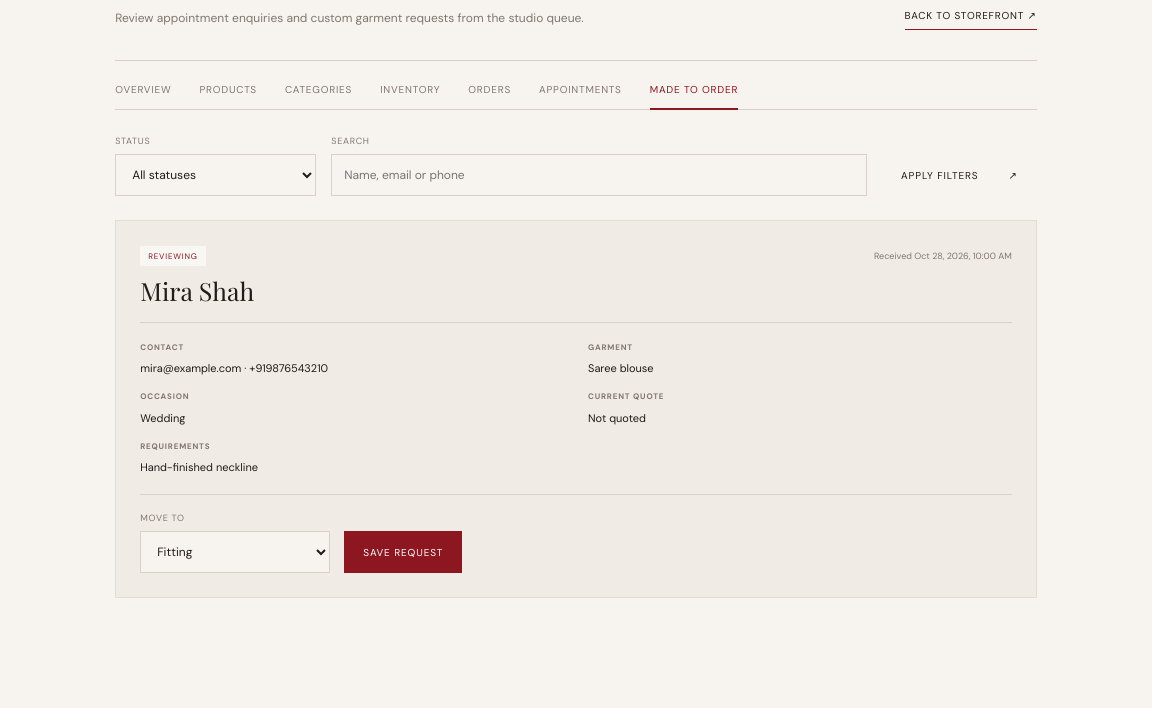
it: admin studio queues › issues a staff quotation in paise through the CSRF-protected API
(page scrolled)
Check: the heading "Mira Shah" is shown, box [140,274,254,307]
Select "Quoted" in the dropdown named "Next status for Mira Shah" at (235, 552), box [140,531,330,573]
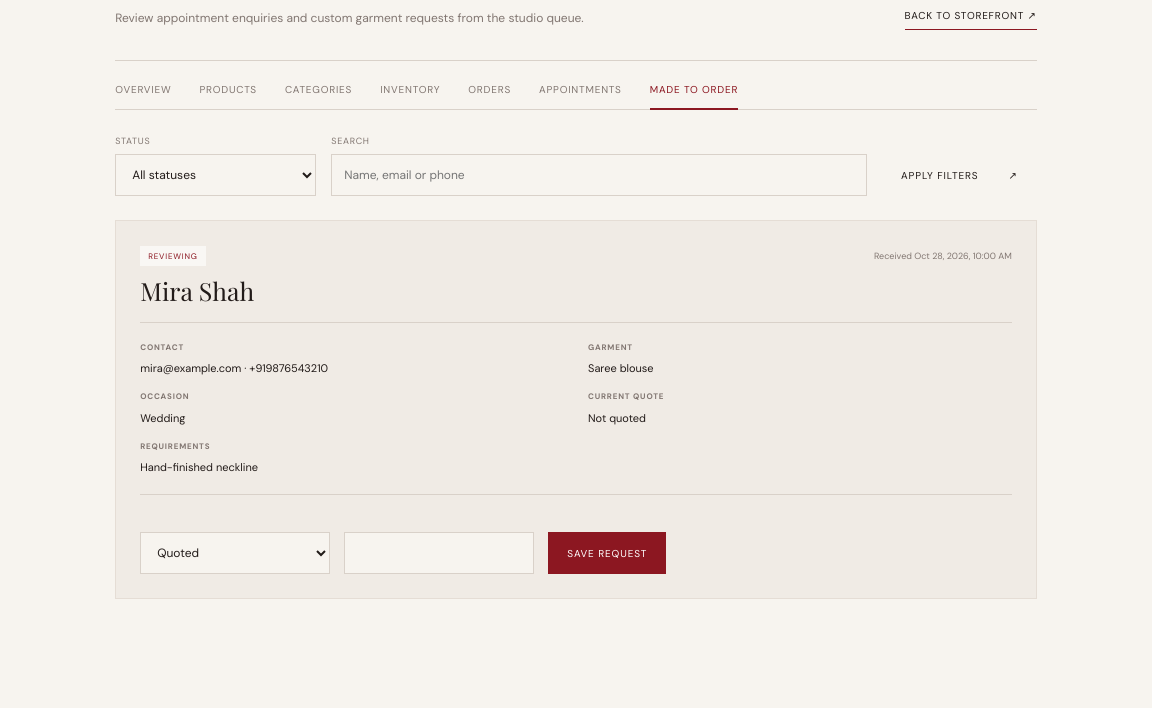
Type "8900.50" into the number field named "Quotation for Mira Shah in rupees" at (439, 553), box [344,532,534,574]
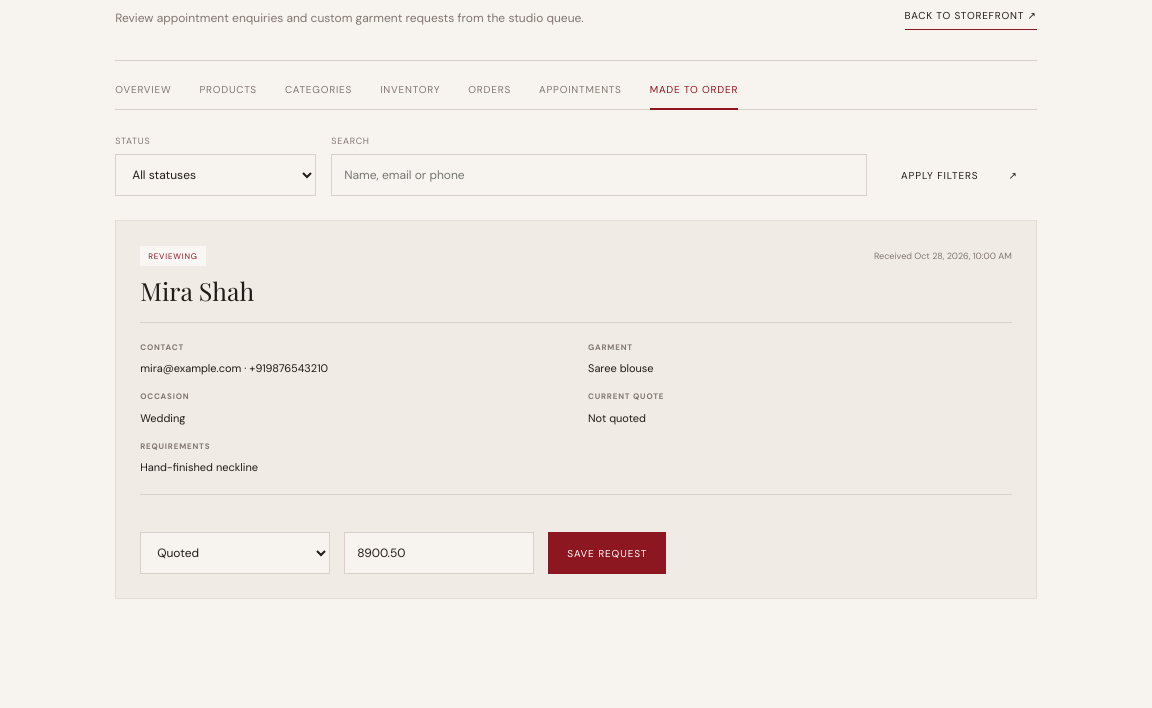
Click the button "Save request" at (607, 553), box [548,532,666,574]
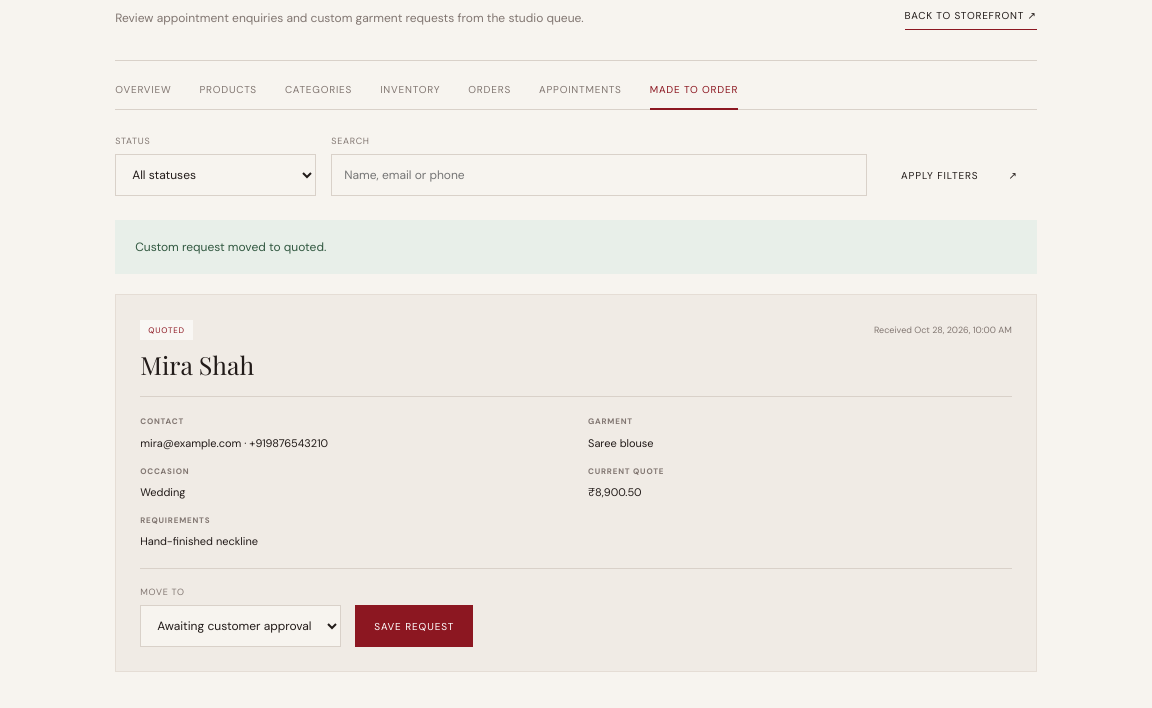
Check: the message reads "Custom request moved to quoted.", box [135,239,326,255]
